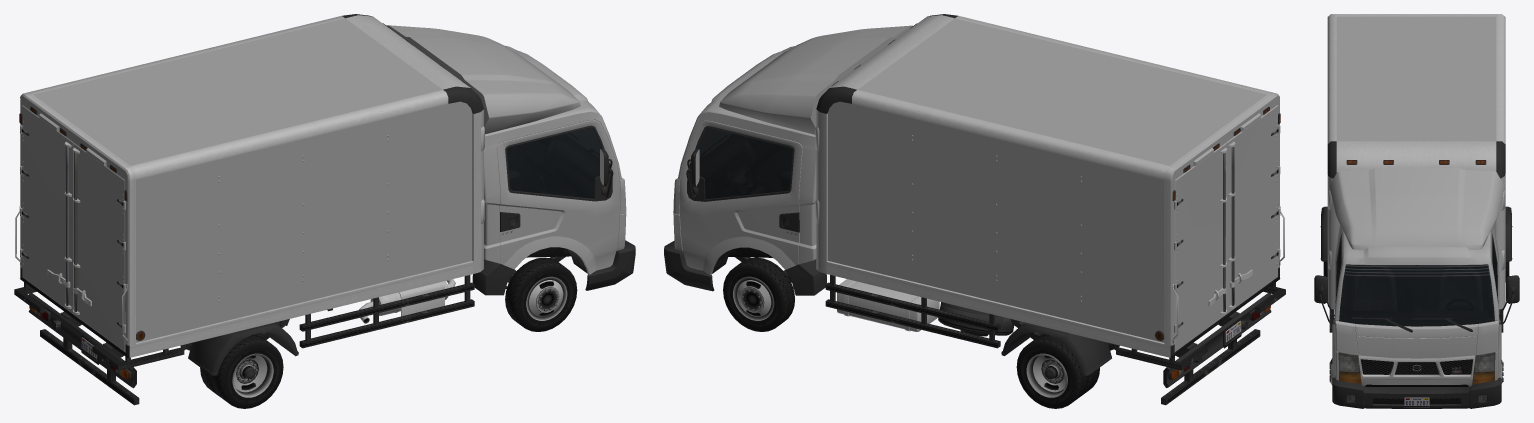
File: lct-3000.glb
3 renders of one model, left to right at view 1: azimuth 30°, elevation 25°; view 2: azimuth 150°, elevation 25°; view 3: azimuth 270°, elevation 25°, orthographic. The views are drawn at different scales.
Visible parts, largest first — view 1: LCT300007_Body_LCT13_07_Bodymat_0, LCT300007_Bottom_UCB_BOTTOM_0, LCT300007_Reardoor_Left_LCT13_07_Bodymat_0, LCT300007_Reardoor_Right_LCT13_07_Bodymat_0, LCT300007_Glass_Driver_UCB_Lights_and_Glass_Transperent_0, LCT300007_interior_UCB_Interiors_2_0, LCT300007_WheelStock_FR_RB1c_Tire_1k_0, LCT300007_WheelStock_RR_RB1c_Tire_1k_0, LCT300007_Bumper_rear_UCB_BOTTOM_0, LCT300007_BUMPER_FRONT_UCB_BOTTOM_0, LCT300007_Reardoor_Left_Inner_UCB_BOTTOM_0, LCT300007_Reardoor_Right_Inner_UCB_BOTTOM_0; view 2: LCT300007_Body_LCT13_07_Bodymat_0, LCT300007_Bottom_UCB_BOTTOM_0, LCT300007_Reardoor_Right_LCT13_07_Bodymat_0, LCT300007_Reardoor_Left_LCT13_07_Bodymat_0, LCT300007_Glass_Driver_UCB_Lights_and_Glass_Transperent_0, LCT300007_WheelStock_FR_RB1c_Tire_1k_0, LCT300007_WheelStock_RL_RB1c_Tire_1k_0, LCT300007_interior_UCB_Interiors_2_0, LCT300007_Bumper_rear_UCB_BOTTOM_0, LCT300007_BUMPER_FRONT_UCB_BOTTOM_0, LCT300007_Reardoor_Right_Inner_UCB_BOTTOM_0, LCT300007_Reardoor_Left_Inner_UCB_BOTTOM_0 (+1 smaller); view 3: LCT300007_Body_LCT13_07_Bodymat_0, LCT300007_Bottom_UCB_BOTTOM_0, LCT300007_Windshield_UCB_Lights_and_Glass_Transperent_0, LCT300007_interior_UCB_Interiors_2_0, LCT300007_BUMPER_FRONT_UCB_BOTTOM_0, LCT300007_Headlight_Glass_UCB_Lights_and_Glass_Transperent_0, LCT300007_Headlights_UCB_Lights_and_Glass_0, LCT300007_BUMPER_FRONT_INNER_UCB_BOTTOM_0, LCT300007_Taillights_Glass_UCB_Lights_and_Glass_Transperent_, LCT300007_Blinkers_UCB_Lights_and_Glass_0, LCT300007_Numberplate_front_Numberplates_Misk_U_0, LCT300007_Steering_Wheel_UCB_Interiors_2_0.
Boxes of the visible parts, <box> form: LCT300007_Body_LCT13_07_Bodymat_0: <box>20,18,626,345</box>; LCT300007_Bottom_UCB_BOTTOM_0: <box>14,14,613,405</box>; LCT300007_Reardoor_Left_LCT13_07_Bodymat_0: <box>22,105,73,314</box>; LCT300007_Reardoor_Right_LCT13_07_Bodymat_0: <box>73,143,125,352</box>; LCT300007_Glass_Driver_UCB_Lights_and_Glass_Transperent_0: <box>507,128,601,198</box>; LCT300007_interior_UCB_Interiors_2_0: <box>508,134,599,198</box>; LCT300007_WheelStock_FR_RB1c_Tire_1k_0: <box>505,257,577,331</box>; LCT300007_WheelStock_RR_RB1c_Tire_1k_0: <box>200,333,283,408</box>; LCT300007_Bumper_rear_UCB_BOTTOM_0: <box>28,293,136,388</box>; LCT300007_BUMPER_FRONT_UCB_BOTTOM_0: <box>585,240,635,290</box>; LCT300007_Reardoor_Left_Inner_UCB_BOTTOM_0: <box>21,128,71,308</box>; LCT300007_Reardoor_Right_Inner_UCB_BOTTOM_0: <box>73,147,125,327</box>; LCT300007_Body_LCT13_07_Bodymat_0: <box>673,18,1280,345</box>; LCT300007_Bottom_UCB_BOTTOM_0: <box>686,14,1285,405</box>; LCT300007_Reardoor_Right_LCT13_07_Bodymat_0: <box>1226,105,1277,314</box>; LCT300007_Reardoor_Left_LCT13_07_Bodymat_0: <box>1174,143,1226,352</box>; LCT300007_Glass_Driver_UCB_Lights_and_Glass_Transperent_0: <box>698,128,792,199</box>; LCT300007_WheelStock_FR_RB1c_Tire_1k_0: <box>723,257,794,331</box>; LCT300007_WheelStock_RL_RB1c_Tire_1k_0: <box>1016,333,1099,408</box>; LCT300007_interior_UCB_Interiors_2_0: <box>700,135,791,198</box>; LCT300007_Bumper_rear_UCB_BOTTOM_0: <box>1163,293,1271,387</box>; LCT300007_BUMPER_FRONT_UCB_BOTTOM_0: <box>664,241,714,291</box>; LCT300007_Reardoor_Right_Inner_UCB_BOTTOM_0: <box>1228,128,1278,308</box>; LCT300007_Reardoor_Left_Inner_UCB_BOTTOM_0: <box>1177,147,1227,327</box>; LCT300007_Body_LCT13_07_Bodymat_0: <box>1329,16,1504,386</box>; LCT300007_Bottom_UCB_BOTTOM_0: <box>1314,14,1519,386</box>; LCT300007_Windshield_UCB_Lights_and_Glass_Transperent_0: <box>1339,264,1494,326</box>; LCT300007_interior_UCB_Interiors_2_0: <box>1337,244,1496,321</box>; LCT300007_BUMPER_FRONT_UCB_BOTTOM_0: <box>1332,377,1501,408</box>; LCT300007_Headlight_Glass_UCB_Lights_and_Glass_Transperent_0: <box>1338,352,1495,372</box>; LCT300007_Headlights_UCB_Lights_and_Glass_0: <box>1339,352,1494,371</box>; LCT300007_BUMPER_FRONT_INNER_UCB_BOTTOM_0: <box>1347,395,1486,404</box>; LCT300007_Taillights_Glass_UCB_Lights_and_Glass_Transperent_: <box>1339,371,1494,384</box>; LCT300007_Blinkers_UCB_Lights_and_Glass_0: <box>1339,372,1494,383</box>; LCT300007_Numberplate_front_Numberplates_Misk_U_0: <box>1404,397,1429,407</box>; LCT300007_Steering_Wheel_UCB_Interiors_2_0: <box>1445,298,1475,310</box>.
Size of the model in its own units: 5.86 by 2.84 by 2.43.
Materials: 8 (7 with a texture image).
